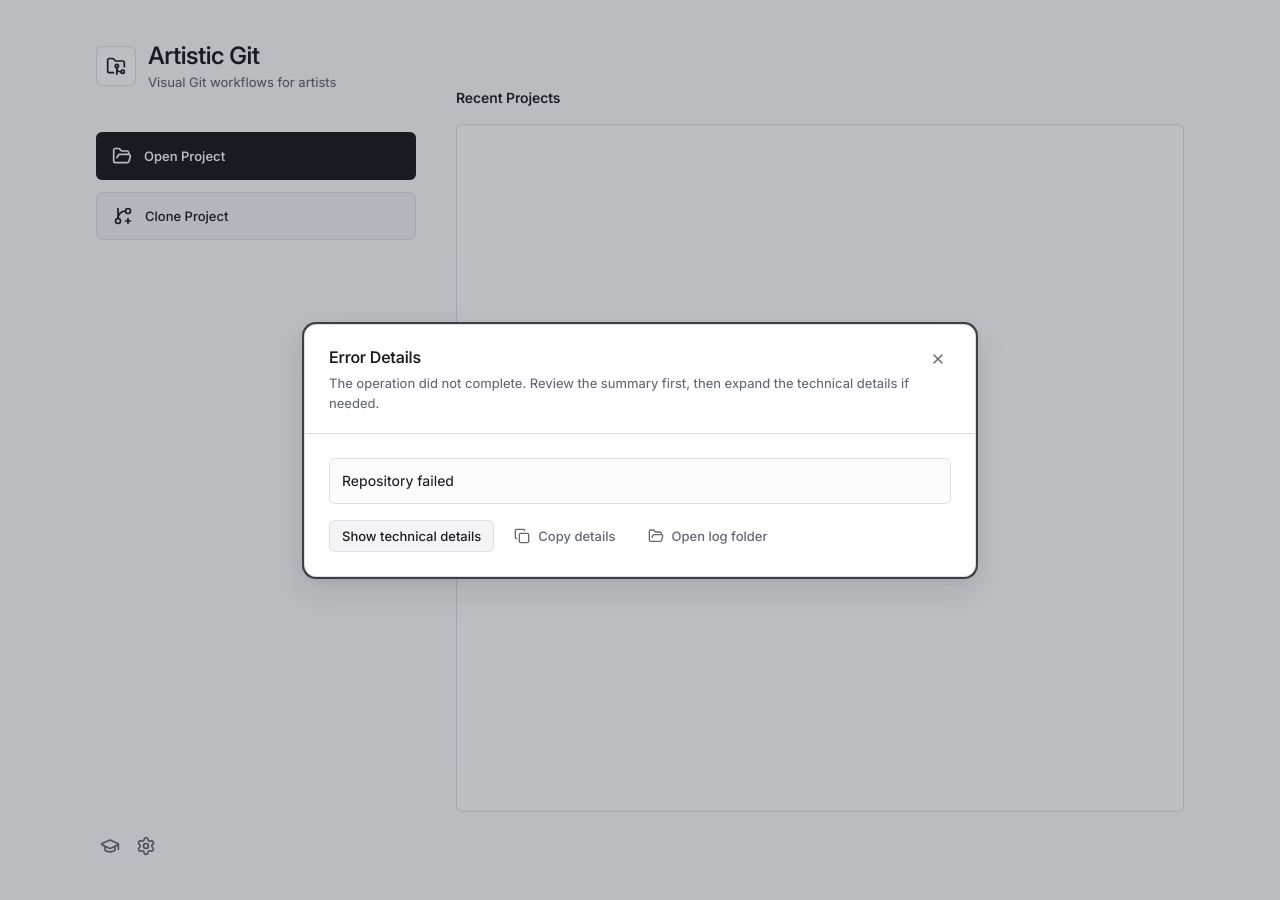
App › opens global error and crash dialogs from window events
Expected: the dialog shows "Repository failed", [342,472,454,488]
Click the button named "Close" at (938, 358), box [925,344,951,372]
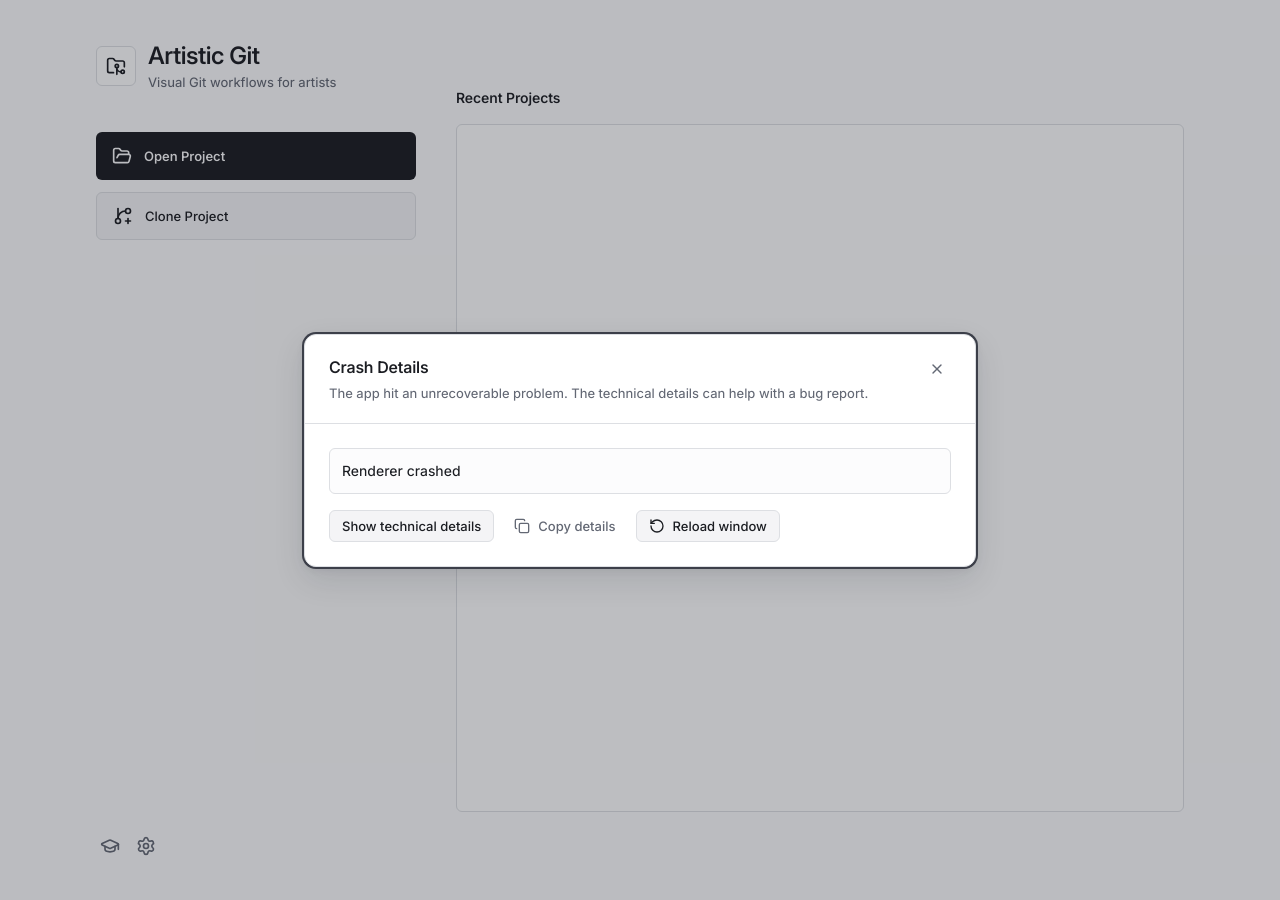
Expected: the dialog shows "Renderer crashed", [342,462,460,478]
